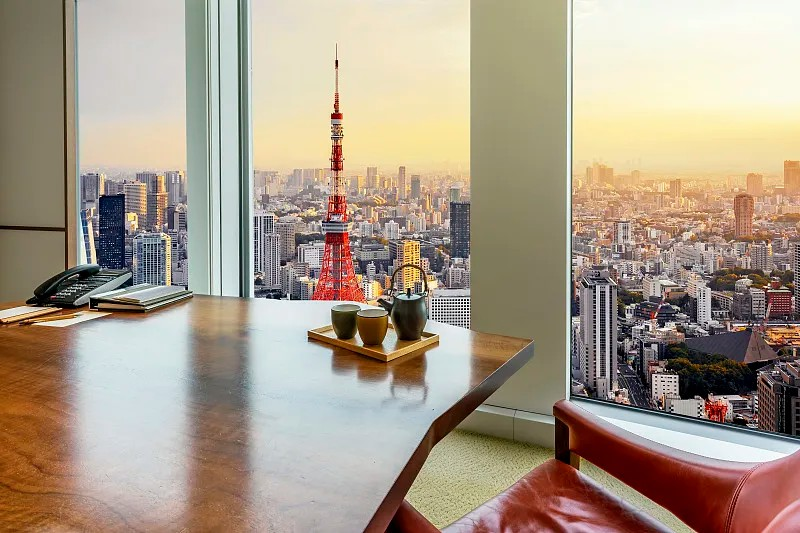Tokyo: (310, 39, 369, 302)
